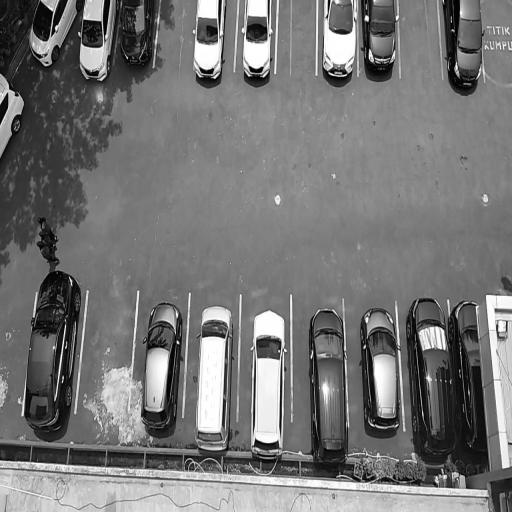Car: (18, 262, 82, 435), (306, 298, 356, 474), (411, 289, 458, 462), (136, 288, 185, 440), (246, 296, 288, 461), (194, 300, 238, 457), (452, 293, 489, 471), (358, 300, 402, 437), (444, 0, 486, 98), (320, 0, 360, 94), (237, 0, 277, 90), (361, 0, 400, 90), (78, 0, 116, 91), (193, 0, 229, 92), (28, 0, 74, 67), (0, 65, 30, 162), (120, 0, 155, 71)
Space Available: (88, 280, 128, 431), (399, 0, 441, 82), (278, 0, 318, 74), (158, 0, 194, 71), (485, 1, 512, 87)
